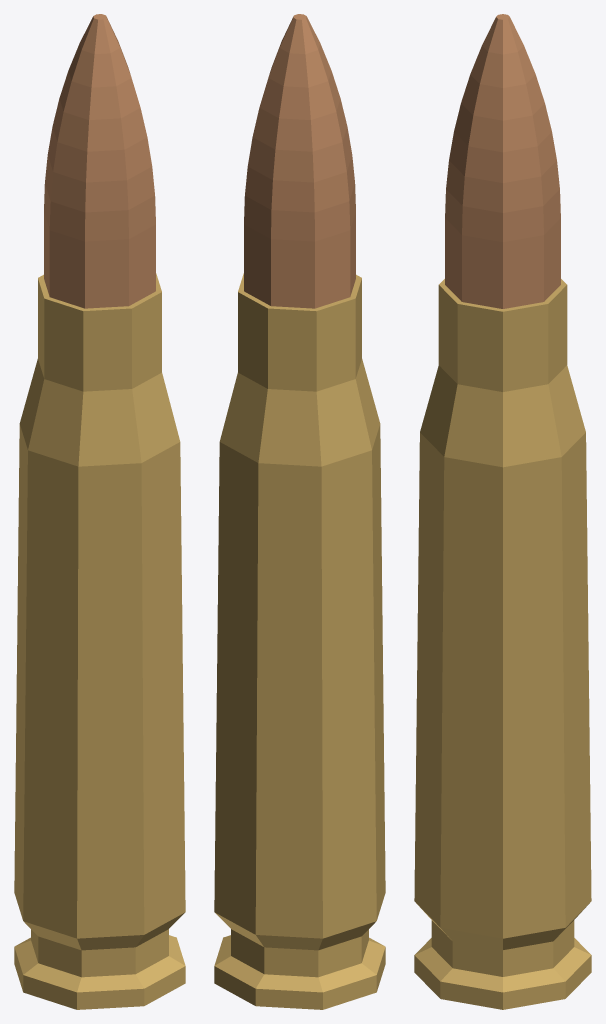
The model's file is round_762x51.glb.
3 views of the same model, side by side, from view 1: azimuth 30°, elevation 25°; view 2: azimuth 150°, elevation 25°; view 3: azimuth 270°, elevation 25° (orthographic).
Parts seen in each view (by area): view 1: round_762x51; view 2: round_762x51; view 3: round_762x51.
Boxes of the visible parts, x1,y1,x2,y2 form: round_762x51: [14, 14, 185, 1009]; round_762x51: [214, 14, 385, 1009]; round_762x51: [414, 14, 591, 1009].
Size of the model in its own units: 0.0119 by 0.0711 by 0.0119.
